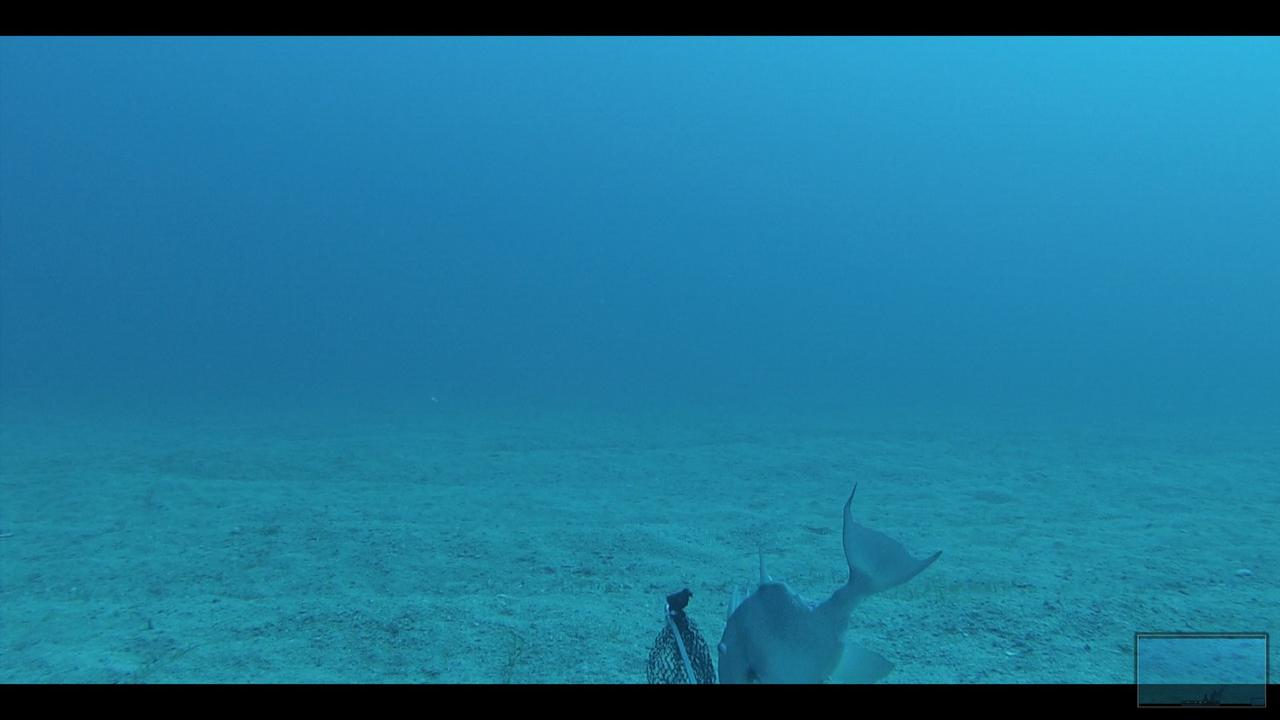balistes: (714, 476, 942, 684)
